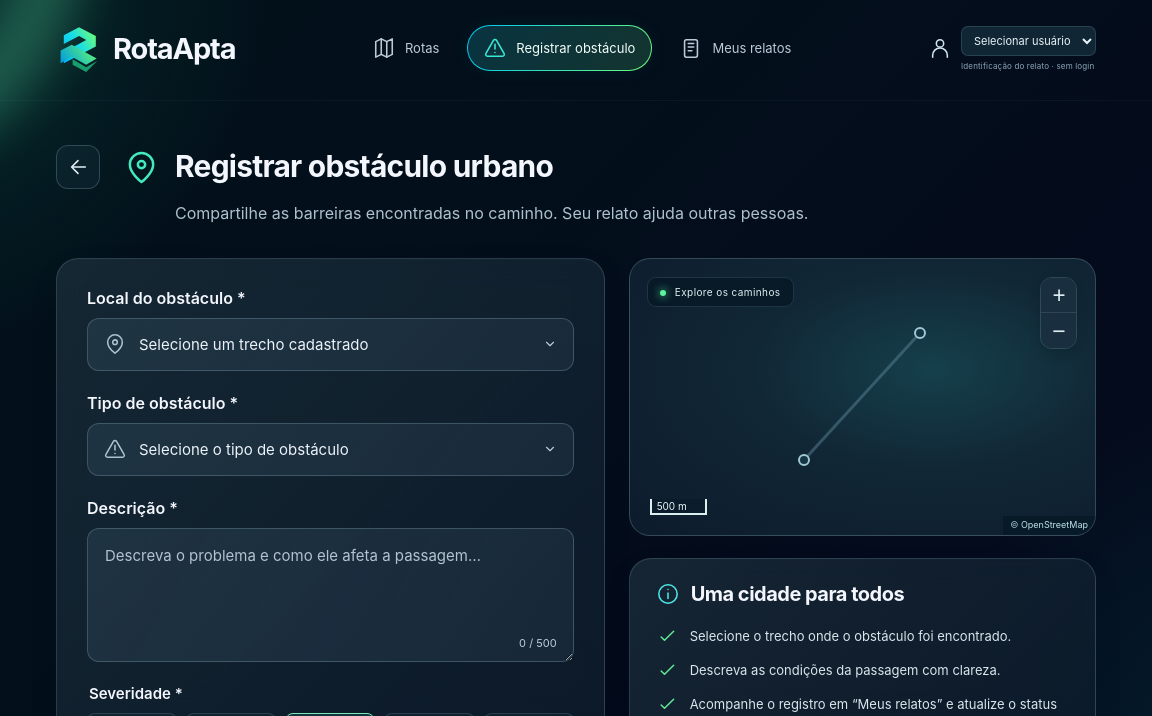
Test: envia o ObstaculoDTO completo, mostra sucesso apenas após o POST e usa os IDs da API
Step 1. Select "Usuário teste" in the dropdown named "Usuário cadastrado" → (1028, 40), box [961,26,1096,56]
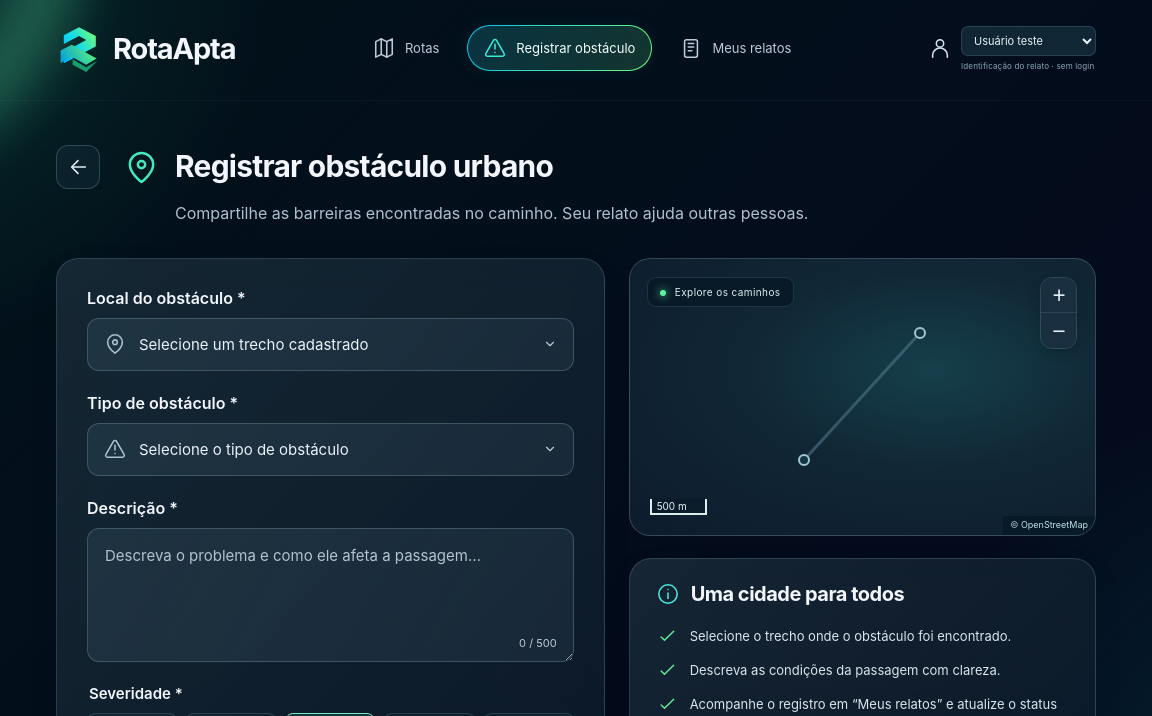
Step 2. Select "Rua de teste · trecho 10" in the dropdown labelled "Local do obstáculo *" → (348, 344), box [139,319,557,370]
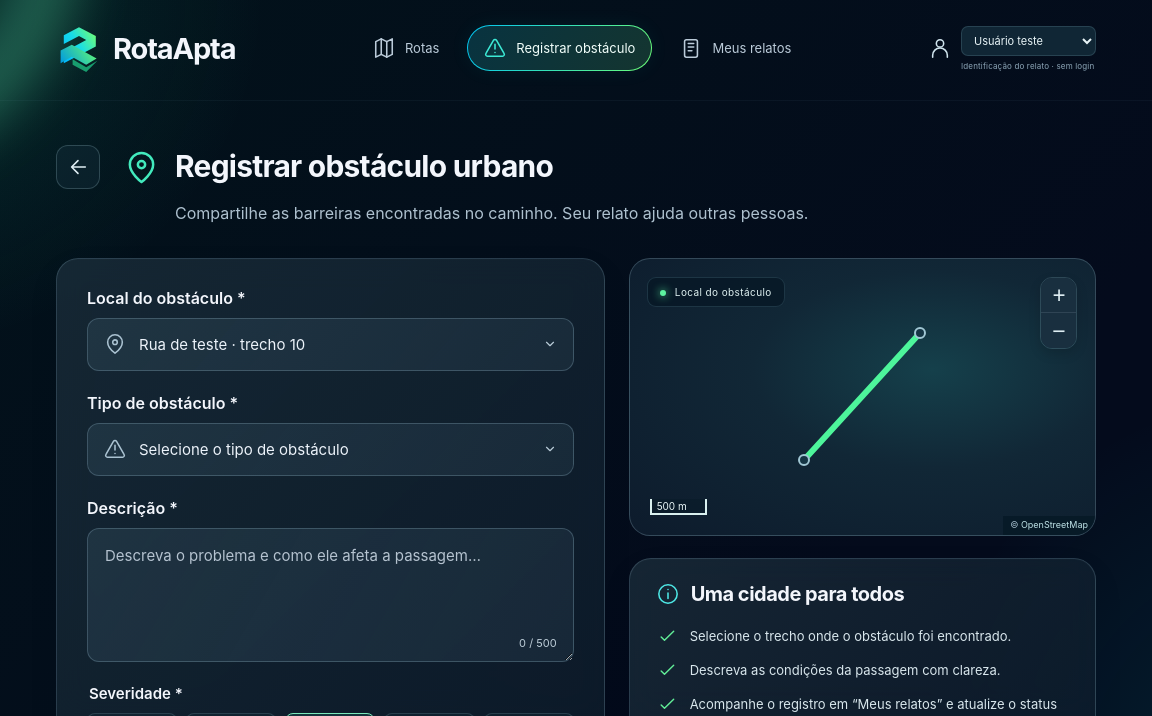
Step 3. Select "Passagem obstruída" in the dropdown labelled "Tipo de obstáculo *" → (348, 449), box [139,424,557,475]
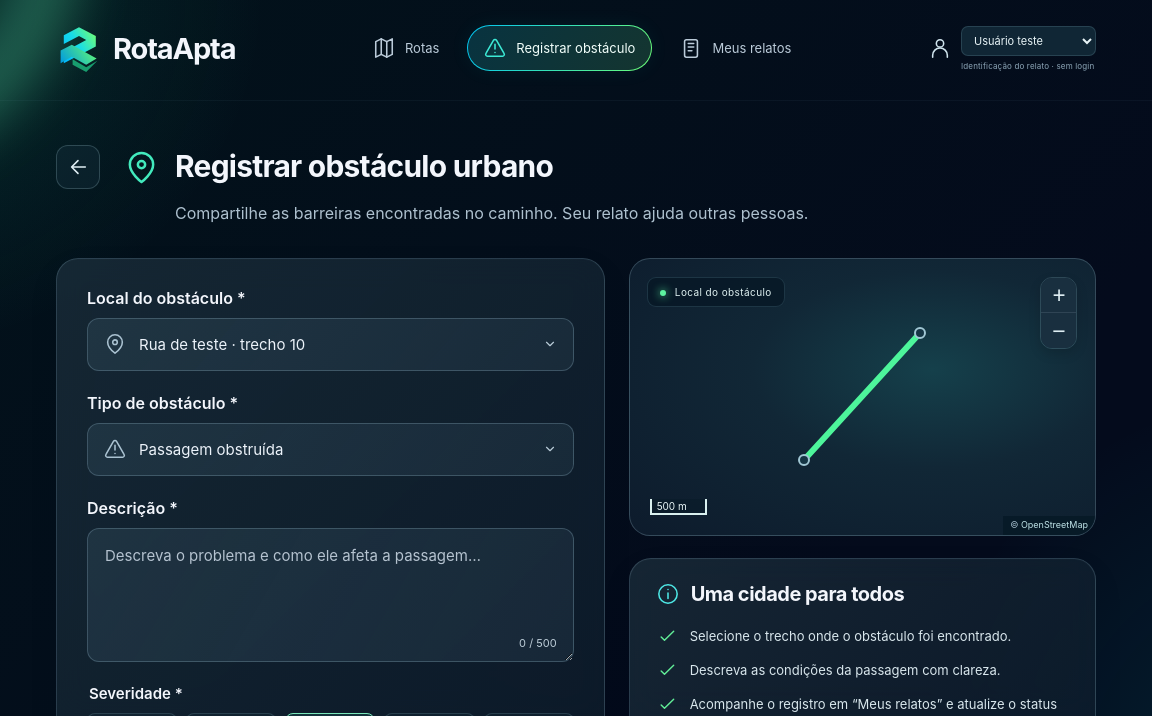
Step 4. Type "Relato enviado pela interface." into the text box labelled "Descrição *" → (330, 595), box [88,529,573,661]
(page scrolled)
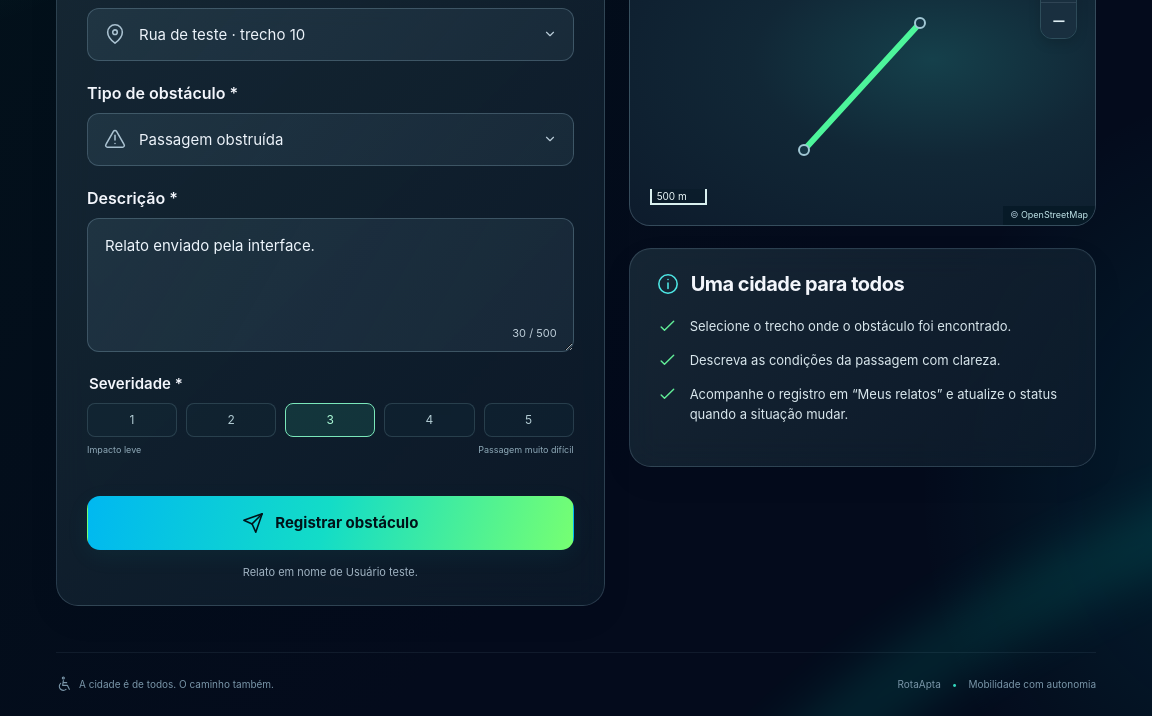
Step 5. Click the radio button labelled "4" → (429, 420), box [384,403,474,437]
(page scrolled)
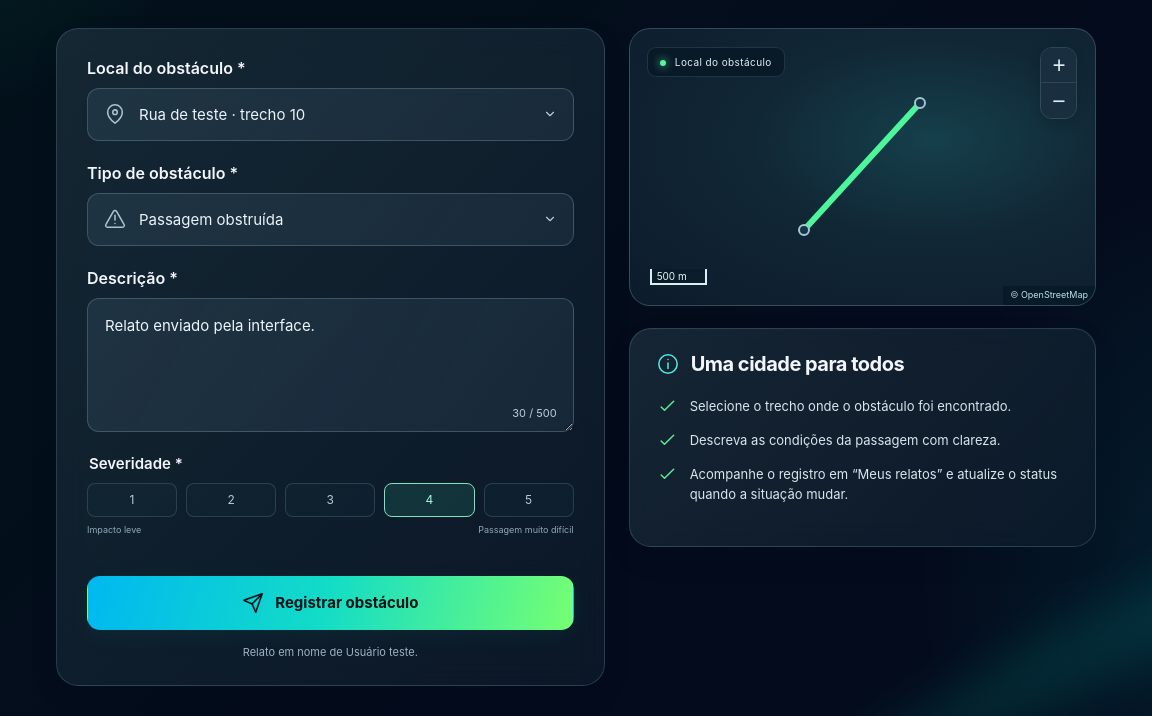
Step 6. Submit the form named "Registrar obstáculo"
(page scrolled)
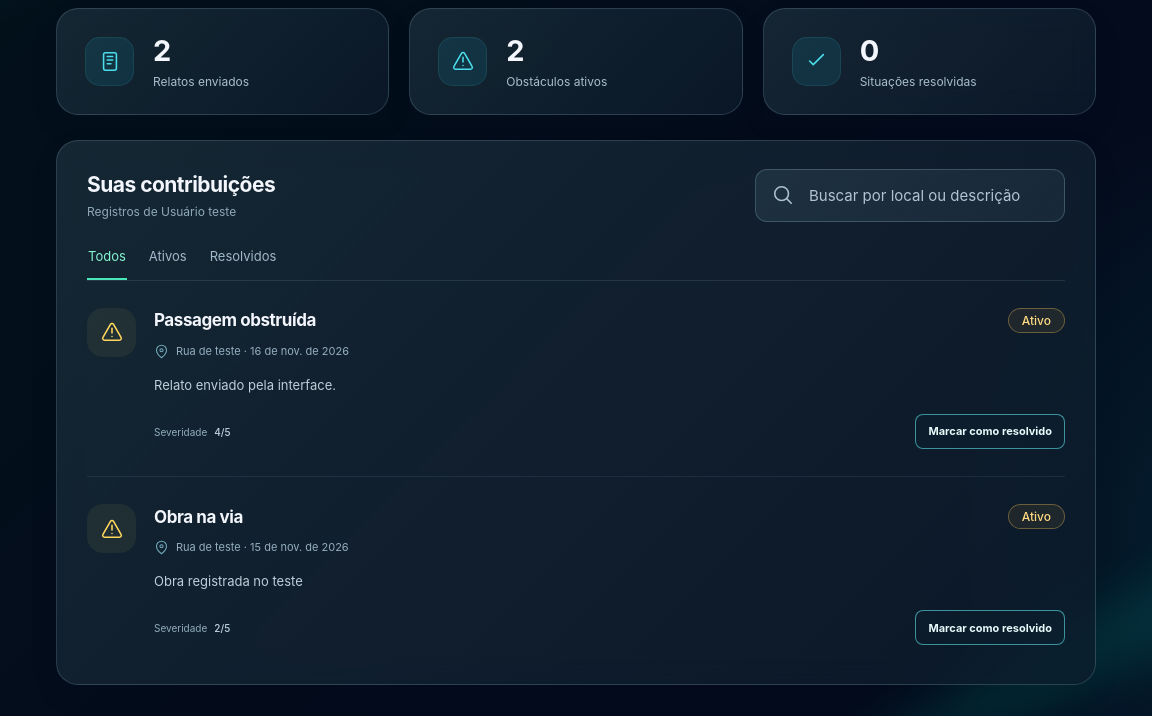
Now the text "Relato enviado pela interface." is shown, box [154,377,336,393]
